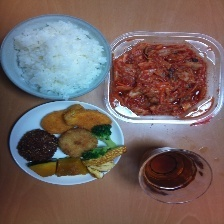rice: (12, 23, 106, 95)
